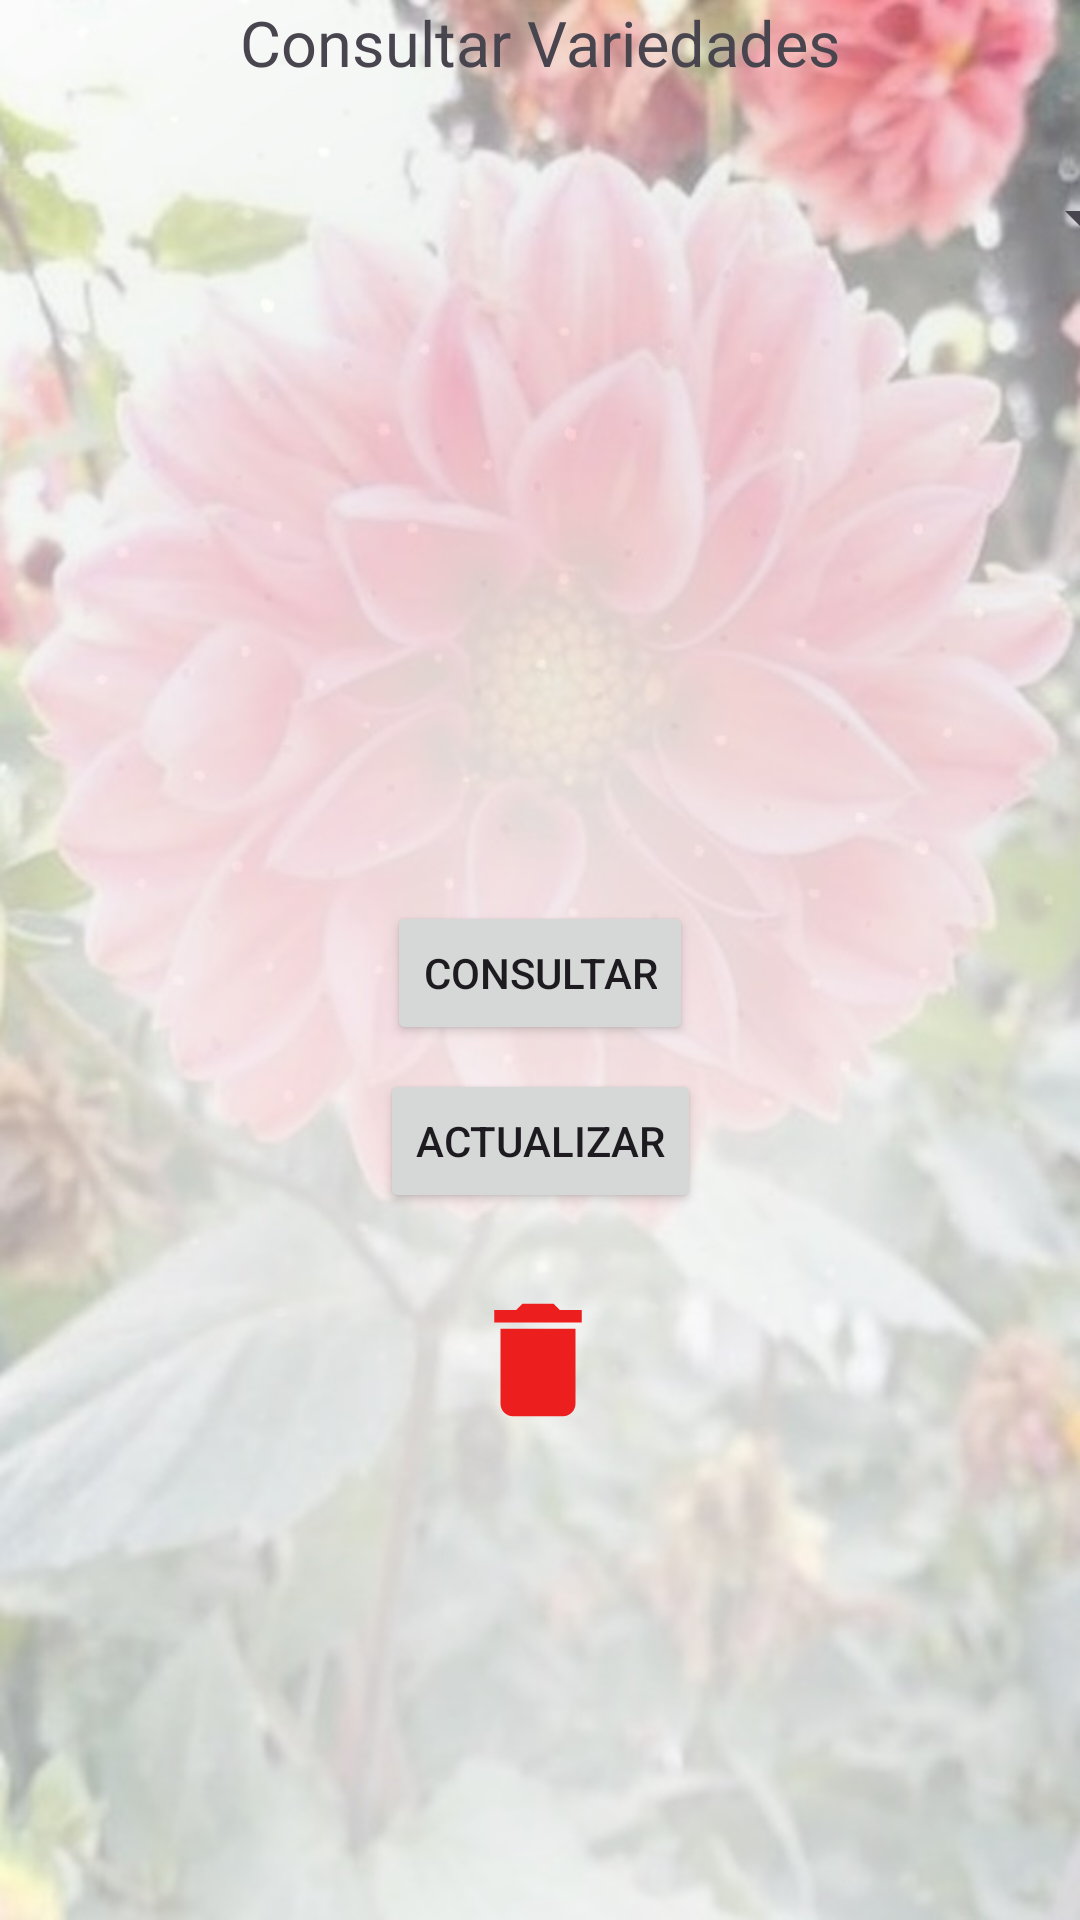

Where to tap for icons on this 1080w x 1920h app screen, as (x=x, y=y):
Eliminar: (x=538, y=1360)
